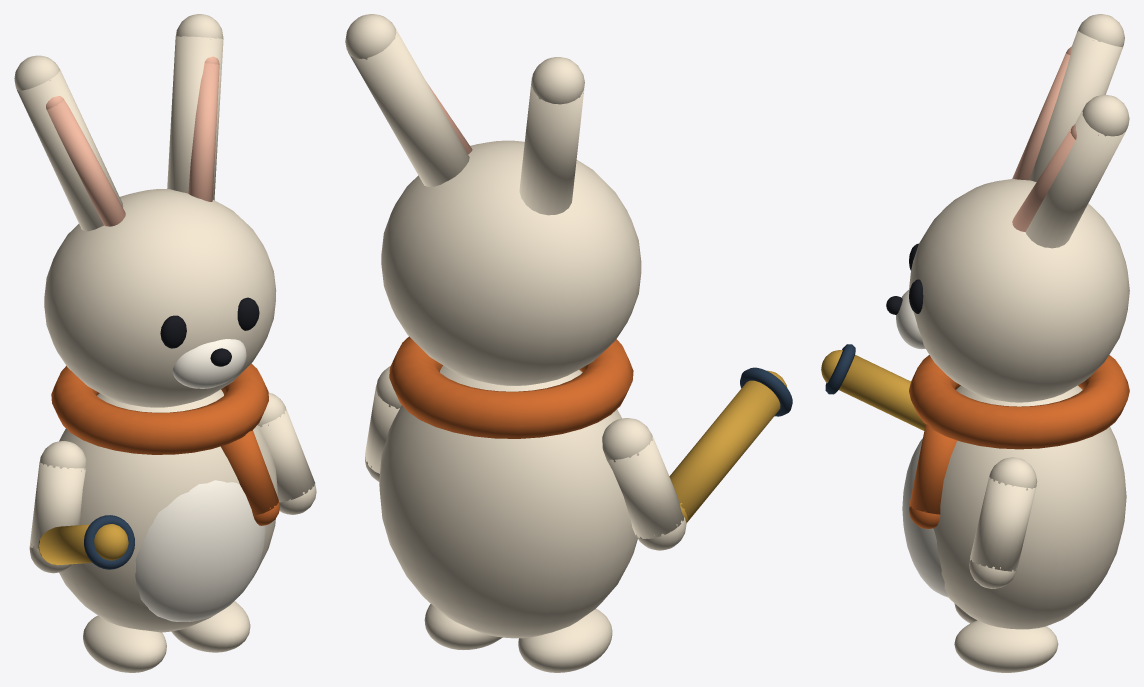
File: moa.glb
3 renders of one model, left to right at view 1: azimuth 30°, elevation 25°; view 2: azimuth 150°, elevation 25°; view 3: azimuth 270°, elevation 25°, orthographic. The views are drawn at different scales.
Parts seen in each view (by area): view 1: skull, torso, belly, scarf, ear.001, ear, foot, ear_in, sleeve_l, ear_in.001, sleeve_r, scarf_tail (+12 smaller); view 2: skull, torso, scarf, ear.001, scope, ear, sleeve_l, foot, ear_b, ear_b.001, foot.001, sleeve_l_a (+3 smaller); view 3: skull, torso, scarf, ear.001, ear, sleeve_r, foot.001, scope, scarf_tail, belly, ear_in, ear_in.001 (+7 smaller).
Boxes of the visible parts, x1=… form: skull: x1=44, y1=189, x2=276, y2=407; torso: x1=59, y1=389, x2=277, y2=632; belly: x1=135, y1=480, x2=266, y2=621; scarf: x1=51, y1=363, x2=268, y2=454; ear.001: x1=167, y1=36, x2=223, y2=200; ear: x1=17, y1=69, x2=123, y2=231; foot: x1=83, y1=615, x2=166, y2=672; ear_in: x1=47, y1=99, x2=125, y2=226; sleeve_l: x1=29, y1=462, x2=85, y2=548; ear_in.001: x1=188, y1=63, x2=219, y2=201; sleeve_r: x1=258, y1=408, x2=314, y2=502; scarf_tail: x1=221, y1=430, x2=278, y2=515; skull: x1=381, y1=140, x2=641, y2=385; torso: x1=379, y1=365, x2=637, y2=638; scarf: x1=389, y1=336, x2=633, y2=438; ear.001: x1=348, y1=26, x2=469, y2=186; scope: x1=669, y1=380, x2=780, y2=522; ear: x1=519, y1=77, x2=584, y2=215; sleeve_l: x1=606, y1=433, x2=683, y2=538; foot: x1=518, y1=609, x2=612, y2=672; ear_b: x1=531, y1=57, x2=584, y2=104; ear_b.001: x1=345, y1=14, x2=396, y2=59; foot.001: x1=424, y1=604, x2=502, y2=649; sleeve_l_a: x1=602, y1=418, x2=652, y2=462; skull: x1=909, y1=179, x2=1129, y2=402; torso: x1=933, y1=385, x2=1126, y2=629; scarf: x1=909, y1=355, x2=1129, y2=449; ear.001: x1=1025, y1=106, x2=1126, y2=248; ear: x1=1030, y1=30, x2=1122, y2=181; sleeve_r: x1=970, y1=476, x2=1036, y2=571; foot.001: x1=954, y1=620, x2=1058, y2=672; scope: x1=839, y1=355, x2=925, y2=430; scarf_tail: x1=909, y1=424, x2=957, y2=514; belly: x1=902, y1=438, x2=948, y2=597; ear_in: x1=1012, y1=53, x2=1070, y2=180; ear_in.001: x1=1012, y1=128, x2=1075, y2=231.
Size of the model in its own units: 1.09 by 2 by 0.95.
